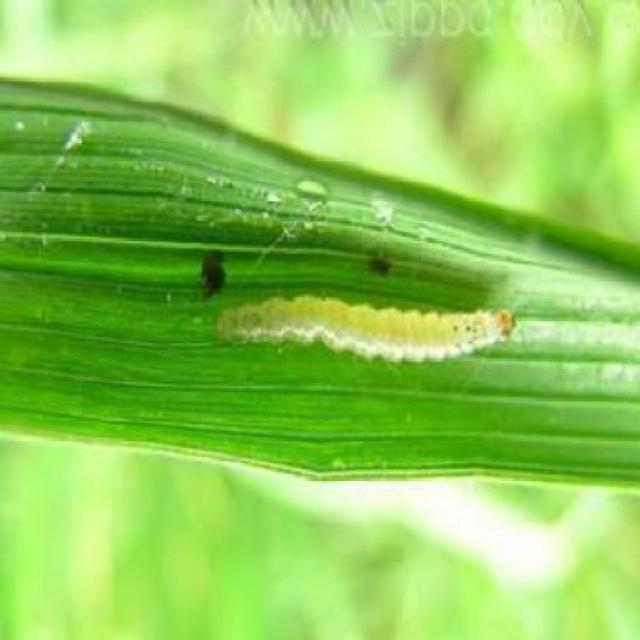leaf-folder: (202, 245, 528, 406)
